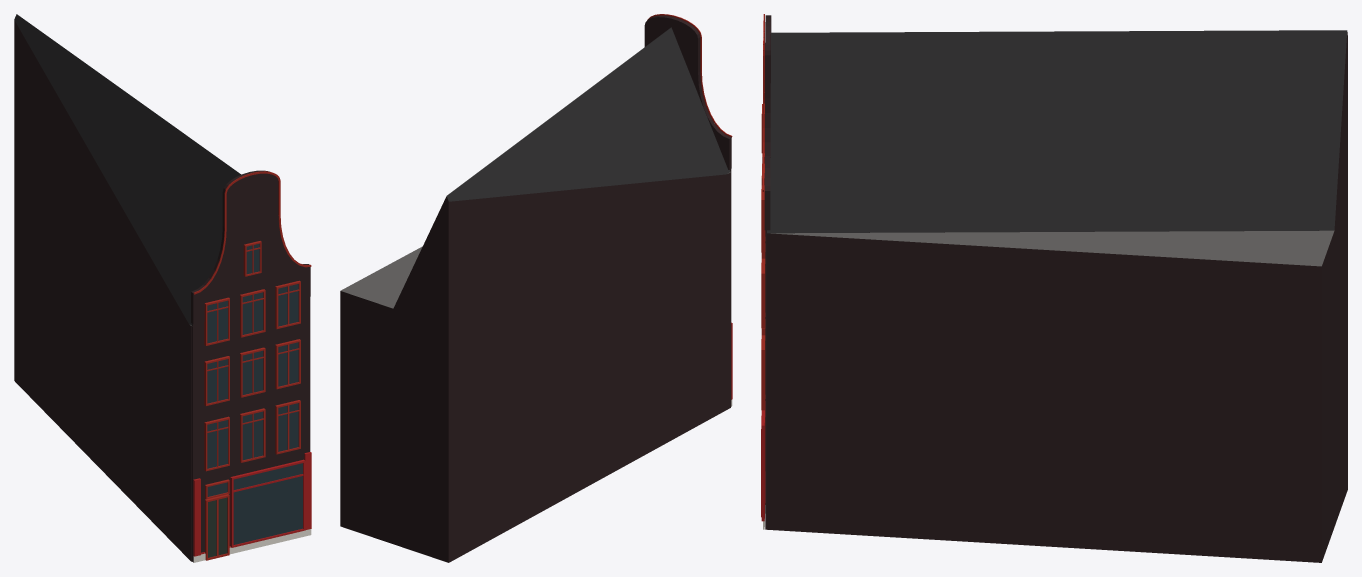
The picture shows the model from 3 angles, left to right: view 1: azimuth 30°, elevation 25°; view 2: azimuth 150°, elevation 25°; view 3: azimuth 270°, elevation 25°; orthographic projection. The views are drawn at different scales.
Parts seen in each view (by area): view 1: spec-0363100012171491; view 2: spec-0363100012171491; view 3: spec-0363100012171491.
Boxes of the visible parts, box(x1,y1,x2,y2) form: spec-0363100012171491: box(14, 14, 311, 562); spec-0363100012171491: box(340, 14, 732, 562); spec-0363100012171491: box(761, 14, 1347, 562).
Size of the model in its own units: 8.07 by 16.91 by 19.
